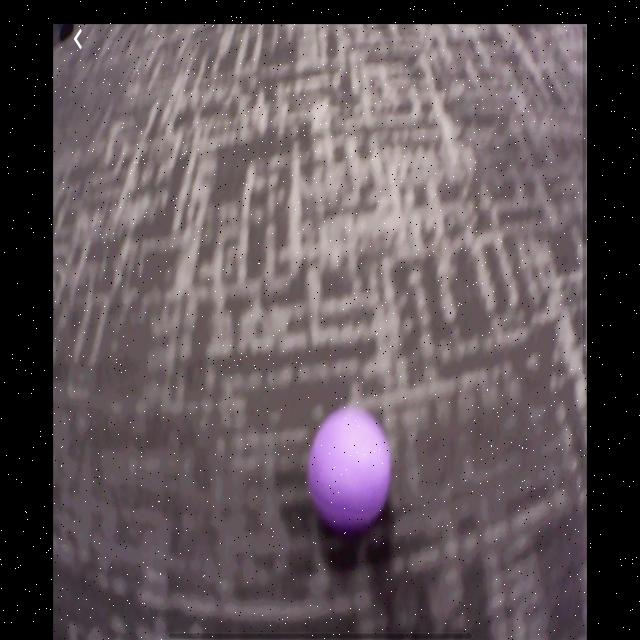ball: (311, 411, 390, 526)
